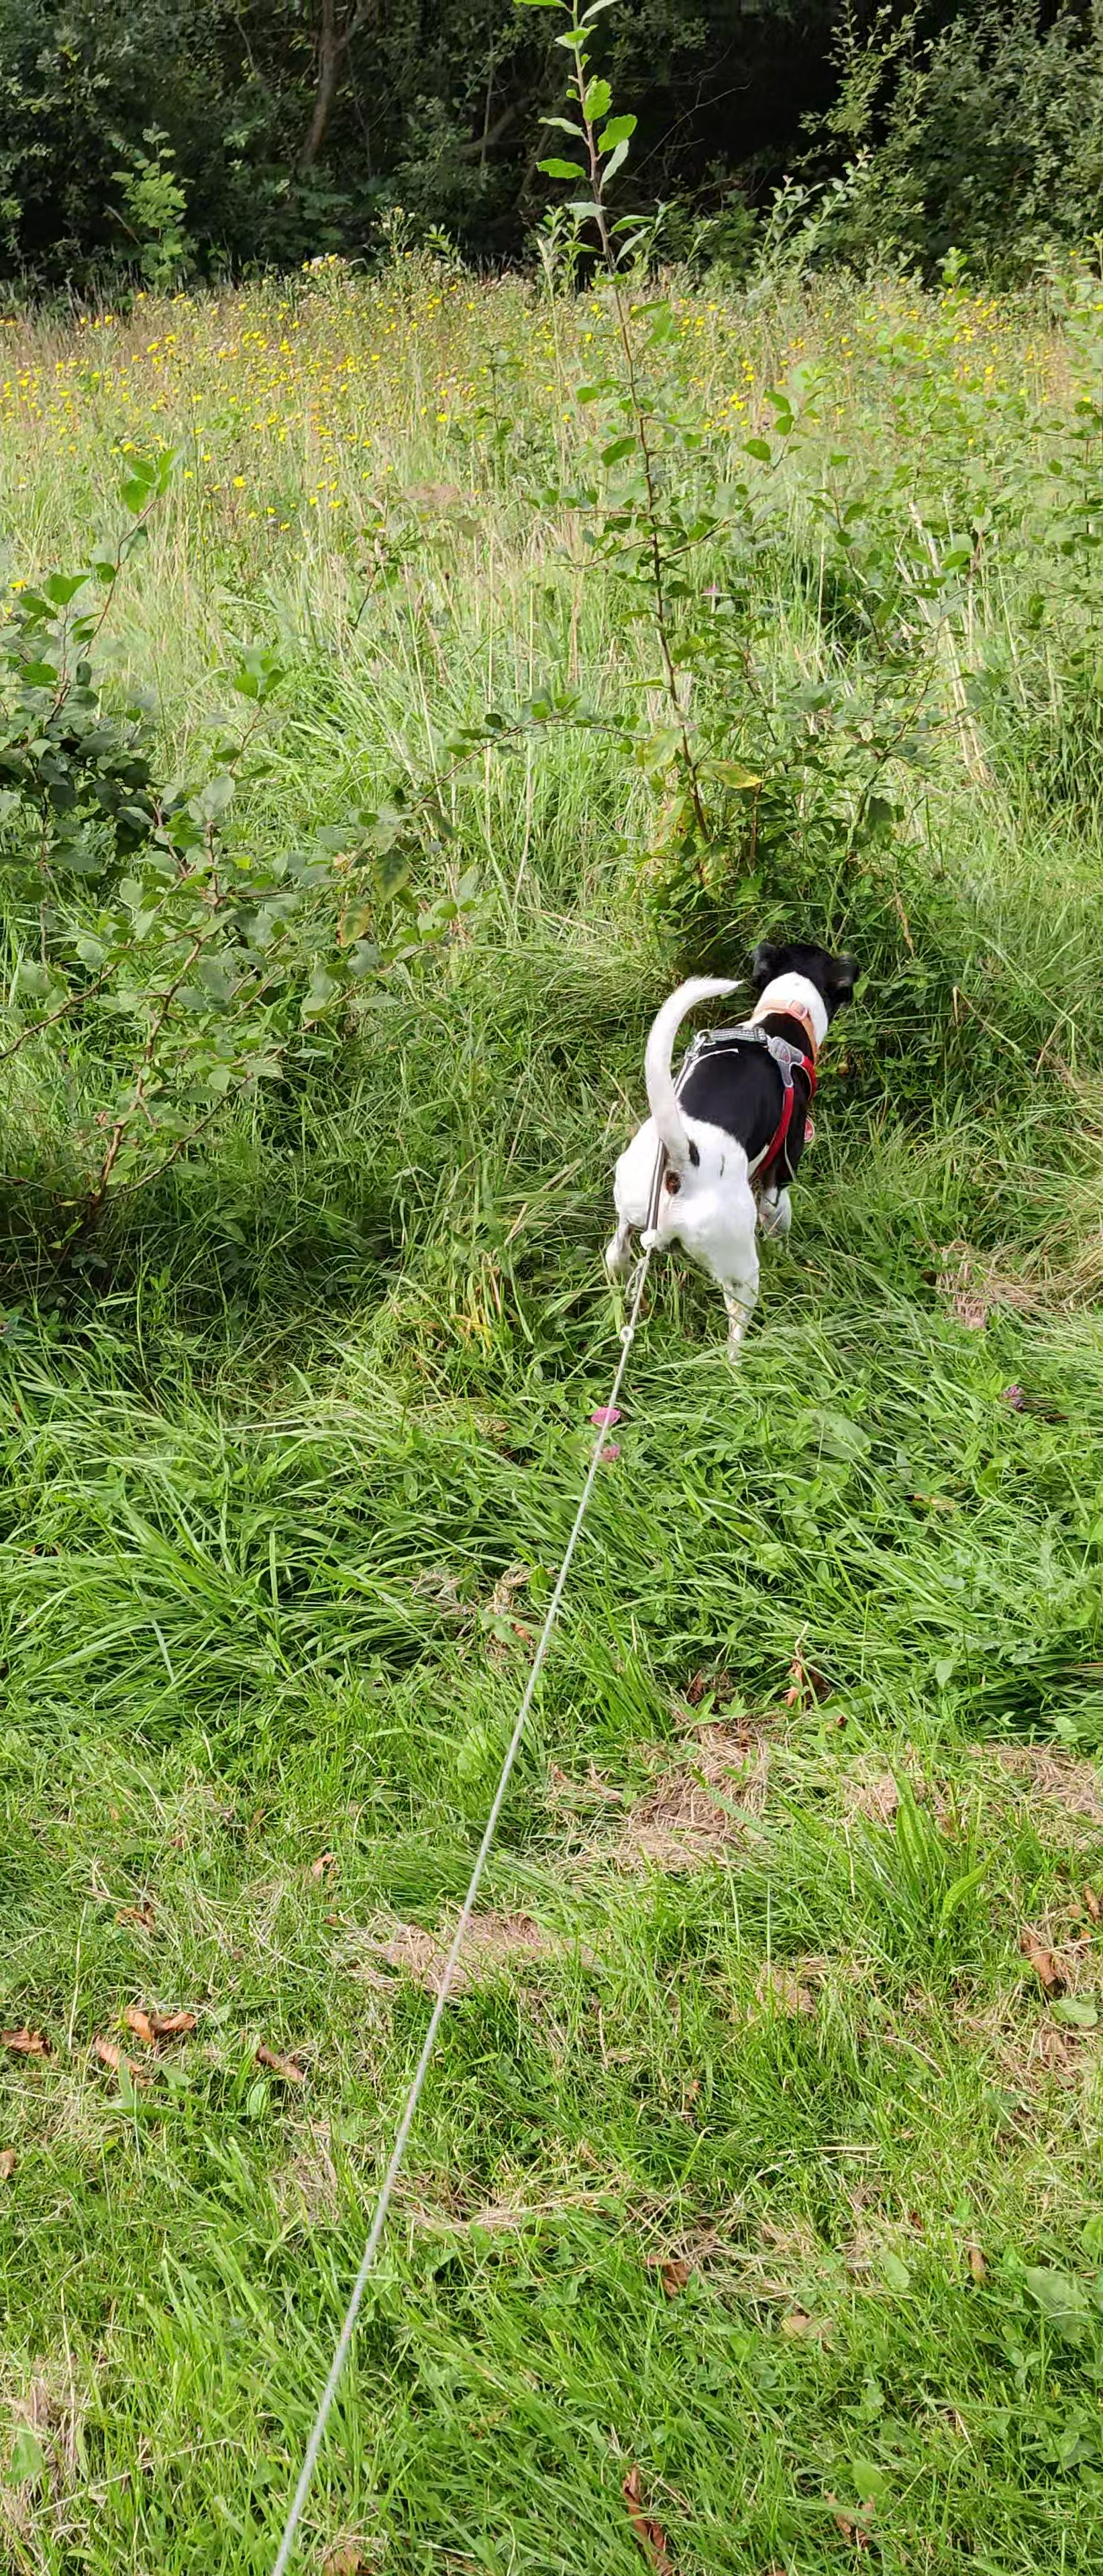Dog: (587, 913, 873, 1378)
